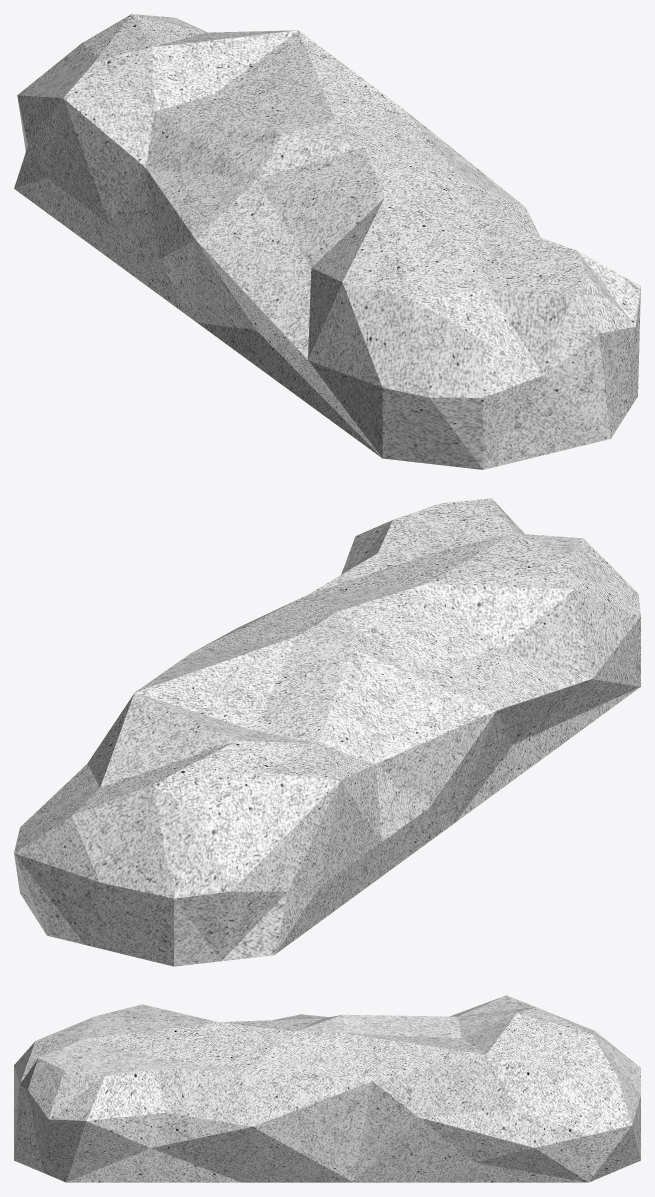
Rendered from rock_3_vert.fbx.
The picture shows the model from 3 angles, top to bottom: view 1: azimuth 30°, elevation 25°; view 2: azimuth 150°, elevation 25°; view 3: azimuth 270°, elevation 25°; orthographic projection. The views are drawn at different scales.
Parts seen in each view (by area): view 1: Mazee.025; view 2: Mazee.025; view 3: Mazee.025.
Boxes of the visible parts, x1,y1,x2,y2 form: Mazee.025: (14,14,640,469); Mazee.025: (14,498,640,966); Mazee.025: (14,995,640,1182).
Size of the model in its own units: 116 by 59.68 by 300.
